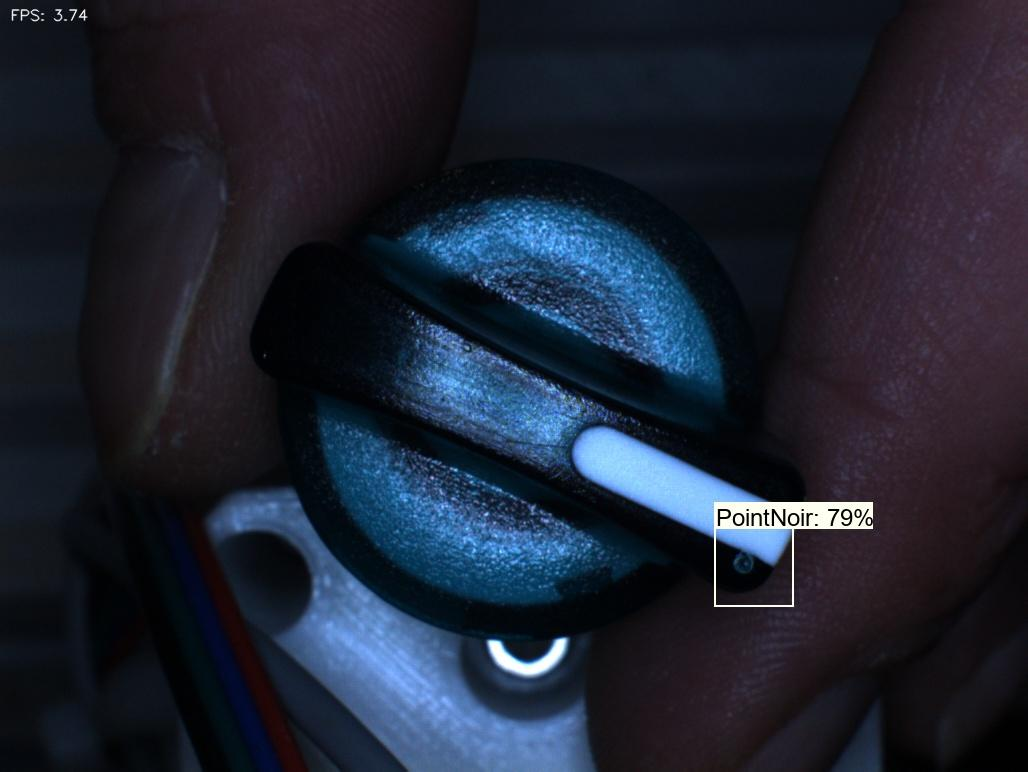Choc: (714, 537, 788, 624)
